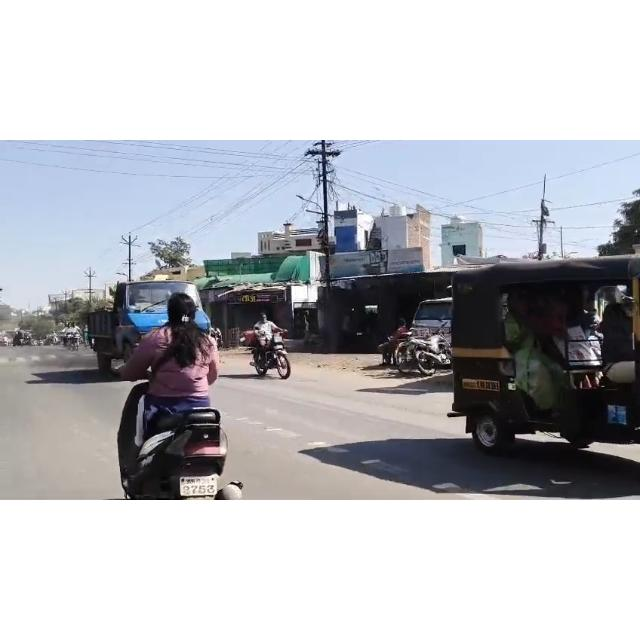auto: (452, 270, 640, 456)
truck: (89, 285, 247, 371)
